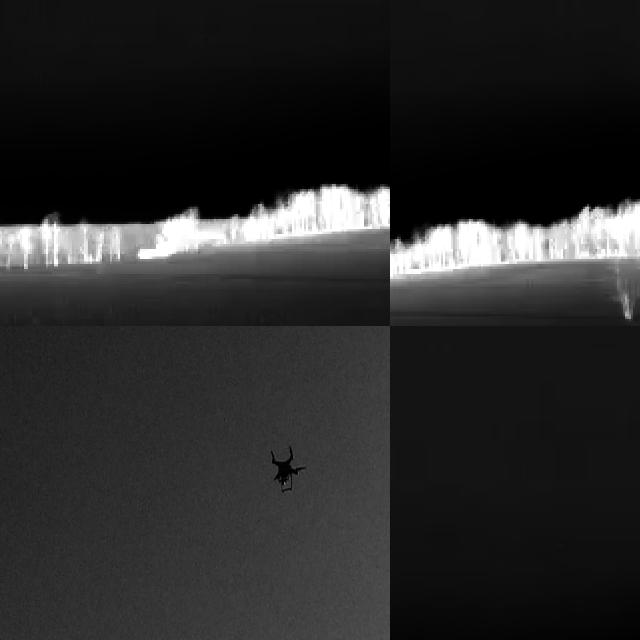drone: (268, 443, 304, 490)
